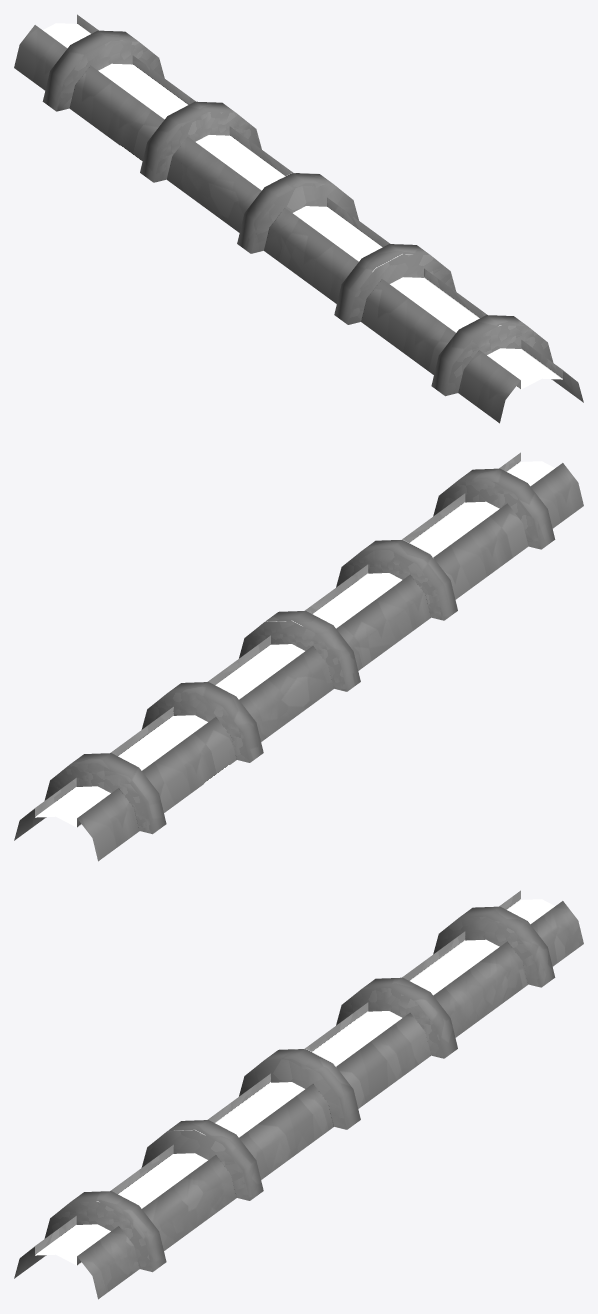
File: ElectricCable.fbx
3 views of the same model, one above another, from view 1: azimuth 30°, elevation 25°; view 2: azimuth 150°, elevation 25°; view 3: azimuth 330°, elevation 25° (orthographic).
Visible parts, largest first — view 1: ElectricCable; view 2: ElectricCable; view 3: ElectricCable.
Part boxes in pixels (bbox=[...]): ElectricCable: bbox=[14, 14, 583, 423]; ElectricCable: bbox=[14, 452, 583, 861]; ElectricCable: bbox=[14, 890, 583, 1299].
Bounding box in the file's own units: 262 × 131 × 2000.
1 material, 1 textured.
